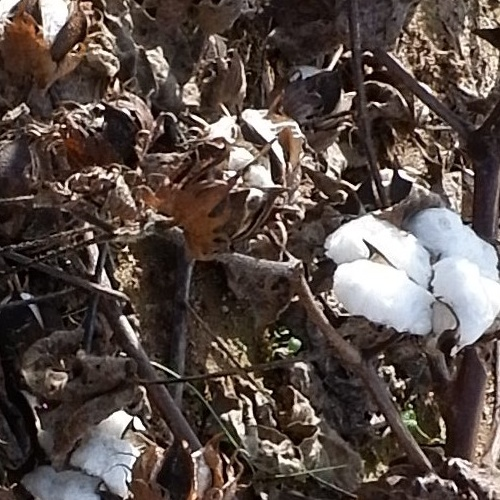immature_boll: (41, 96, 285, 272)
mature_boll: (315, 206, 500, 362)
